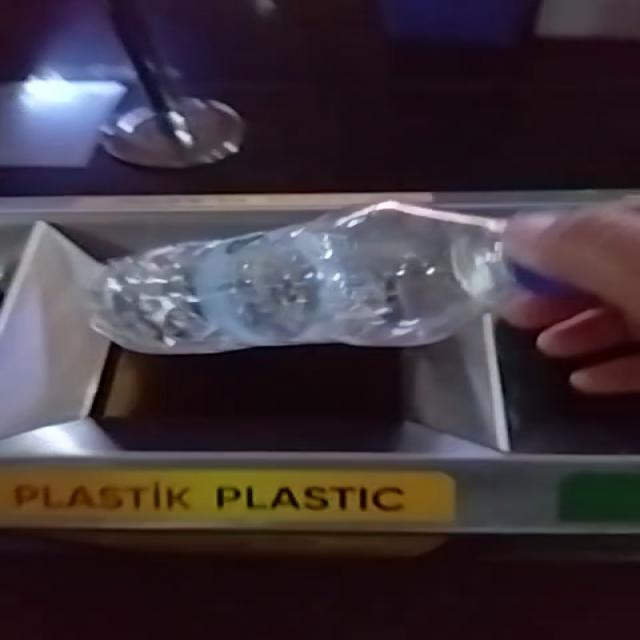plastic: (91, 201, 512, 355)
